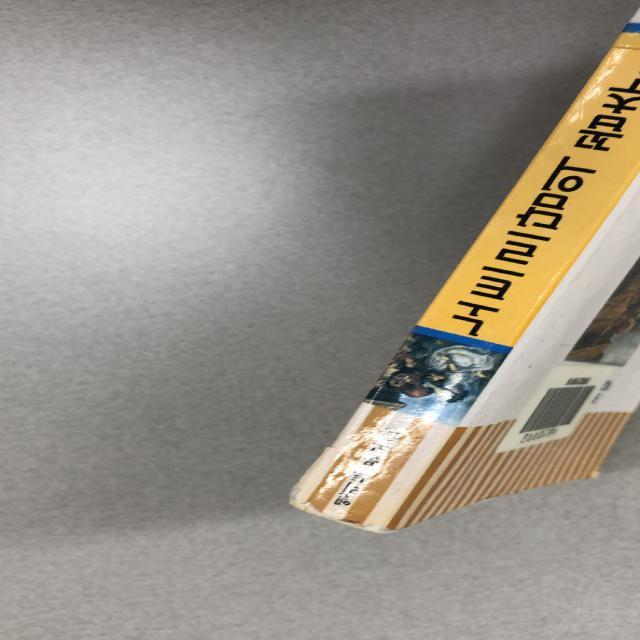Ripped: (282, 427, 344, 523)
Wornout: (337, 508, 417, 537)
